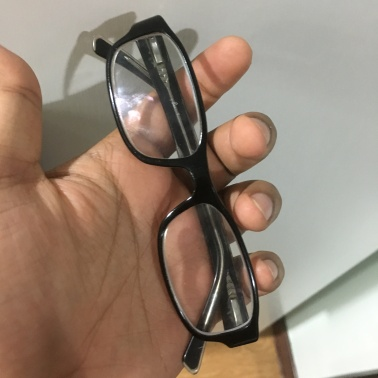glasses: (95, 7, 280, 351)
